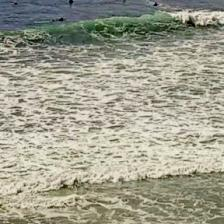surfer: (152, 2, 160, 7), (12, 2, 20, 6), (68, 0, 74, 5), (58, 17, 64, 22)
